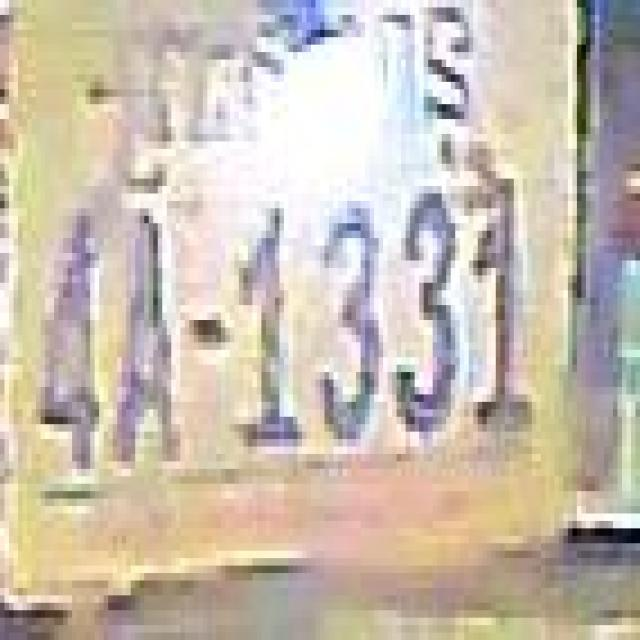Preah_Sihanouk: (108, 7, 476, 184)
